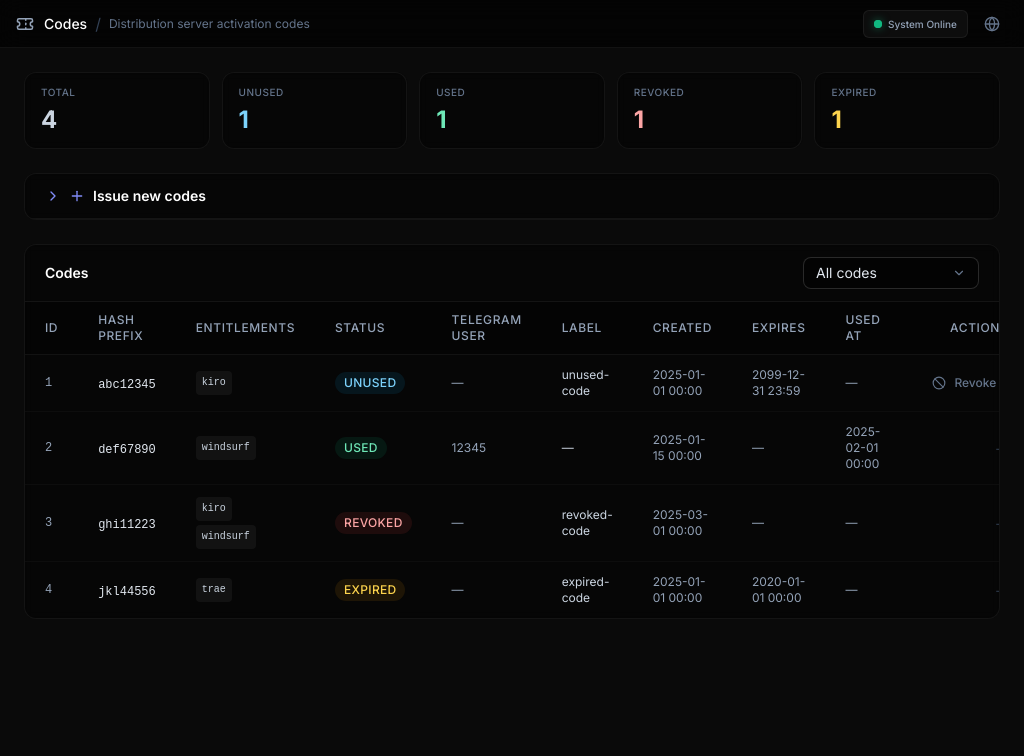
it: Codes page › does not render the entitlements input in the issue form
Expected: the text "abc12345" is shown, [98,378,156,392]
# Open the issue form.
Click the button "Issue new codes".
click(149, 196)  # box [25,174,999,219]
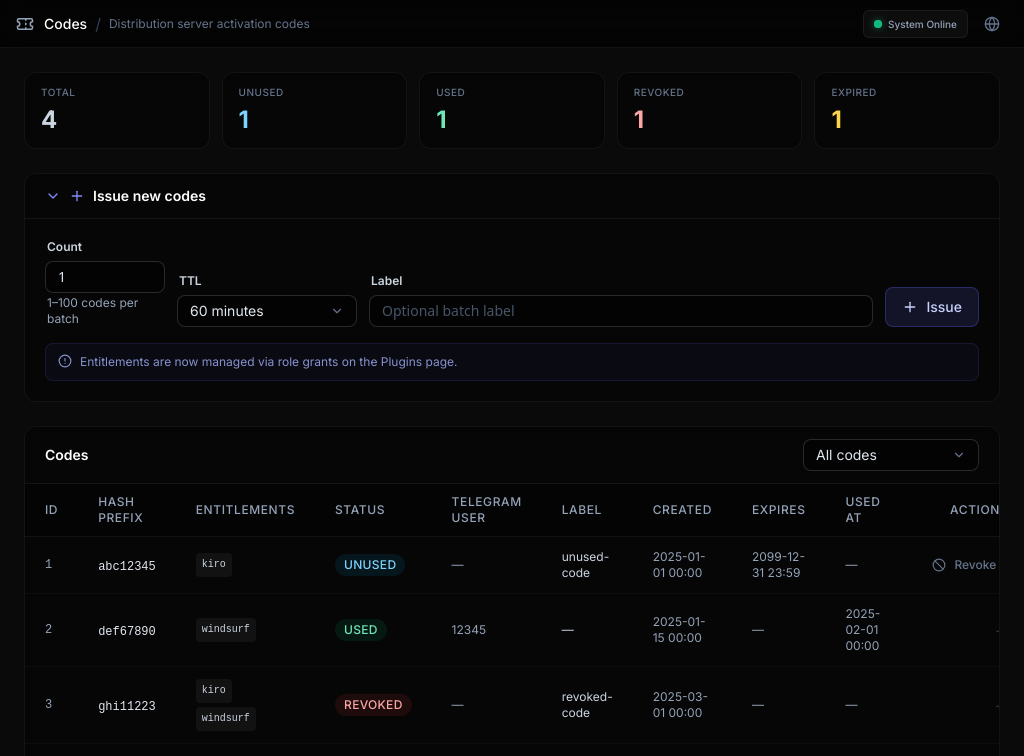
Expected: the text "managed via role grants" is shown, [80,354,458,369]
